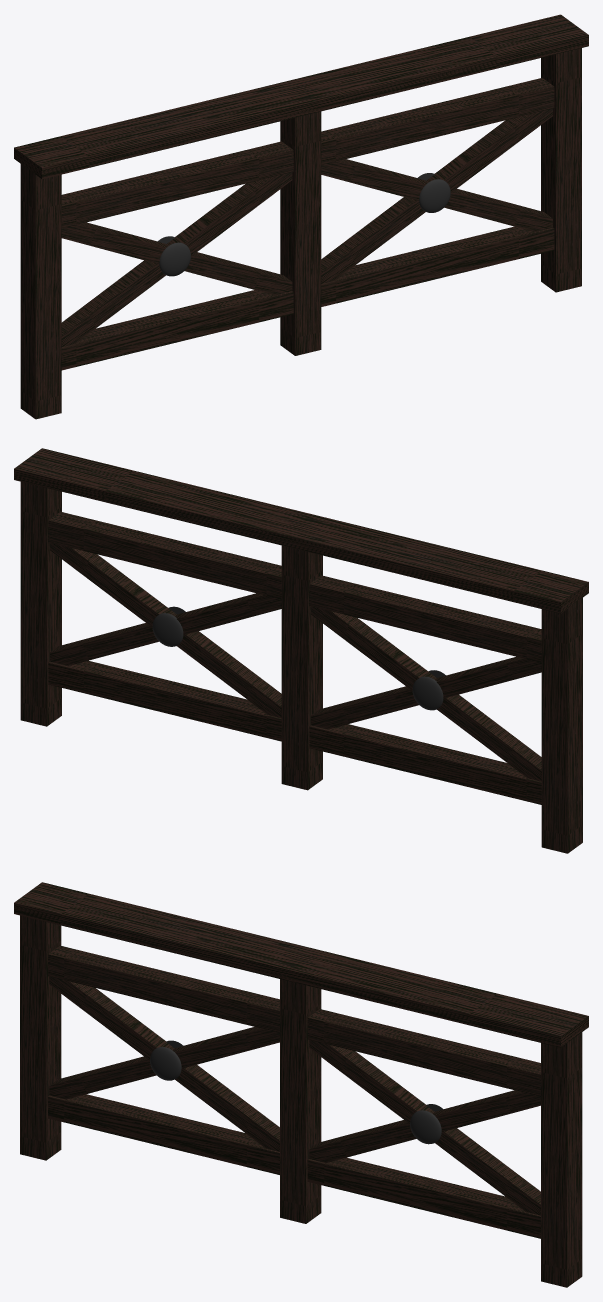
File: Fence 8.FBX
The picture shows the model from 3 angles, top to bottom: view 1: azimuth 30°, elevation 25°; view 2: azimuth 150°, elevation 25°; view 3: azimuth 330°, elevation 25°; orthographic projection.
Parts seen in each view (by area): view 1: fence 8, post 1, post 2; view 2: fence 8, post 1, post 2; view 3: fence 8, post 2, post 1.
Part boxes in pixels (x1=…): fence 8: x1=14, y1=14, x2=588, y2=370; post 1: x1=20, y1=163, x2=61, y2=419; post 2: x1=541, y1=48, x2=581, y2=292; fence 8: x1=14, y1=448, x2=588, y2=804; post 1: x1=541, y1=596, x2=582, y2=853; post 2: x1=20, y1=481, x2=61, y2=726; fence 8: x1=14, y1=882, x2=588, y2=1238; post 2: x1=541, y1=1032, x2=582, y2=1287; post 1: x1=20, y1=915, x2=61, y2=1160.
Bounding box in the file's own units: 525 × 47.31 × 235.
